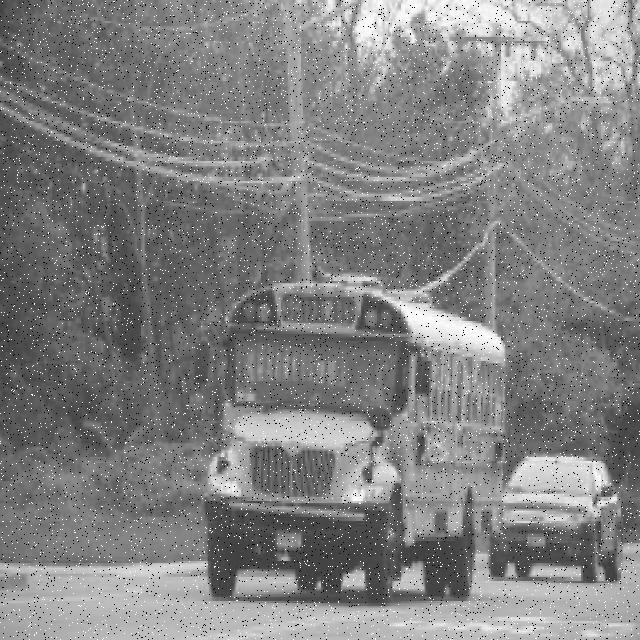Bus: (195, 273, 505, 607)
